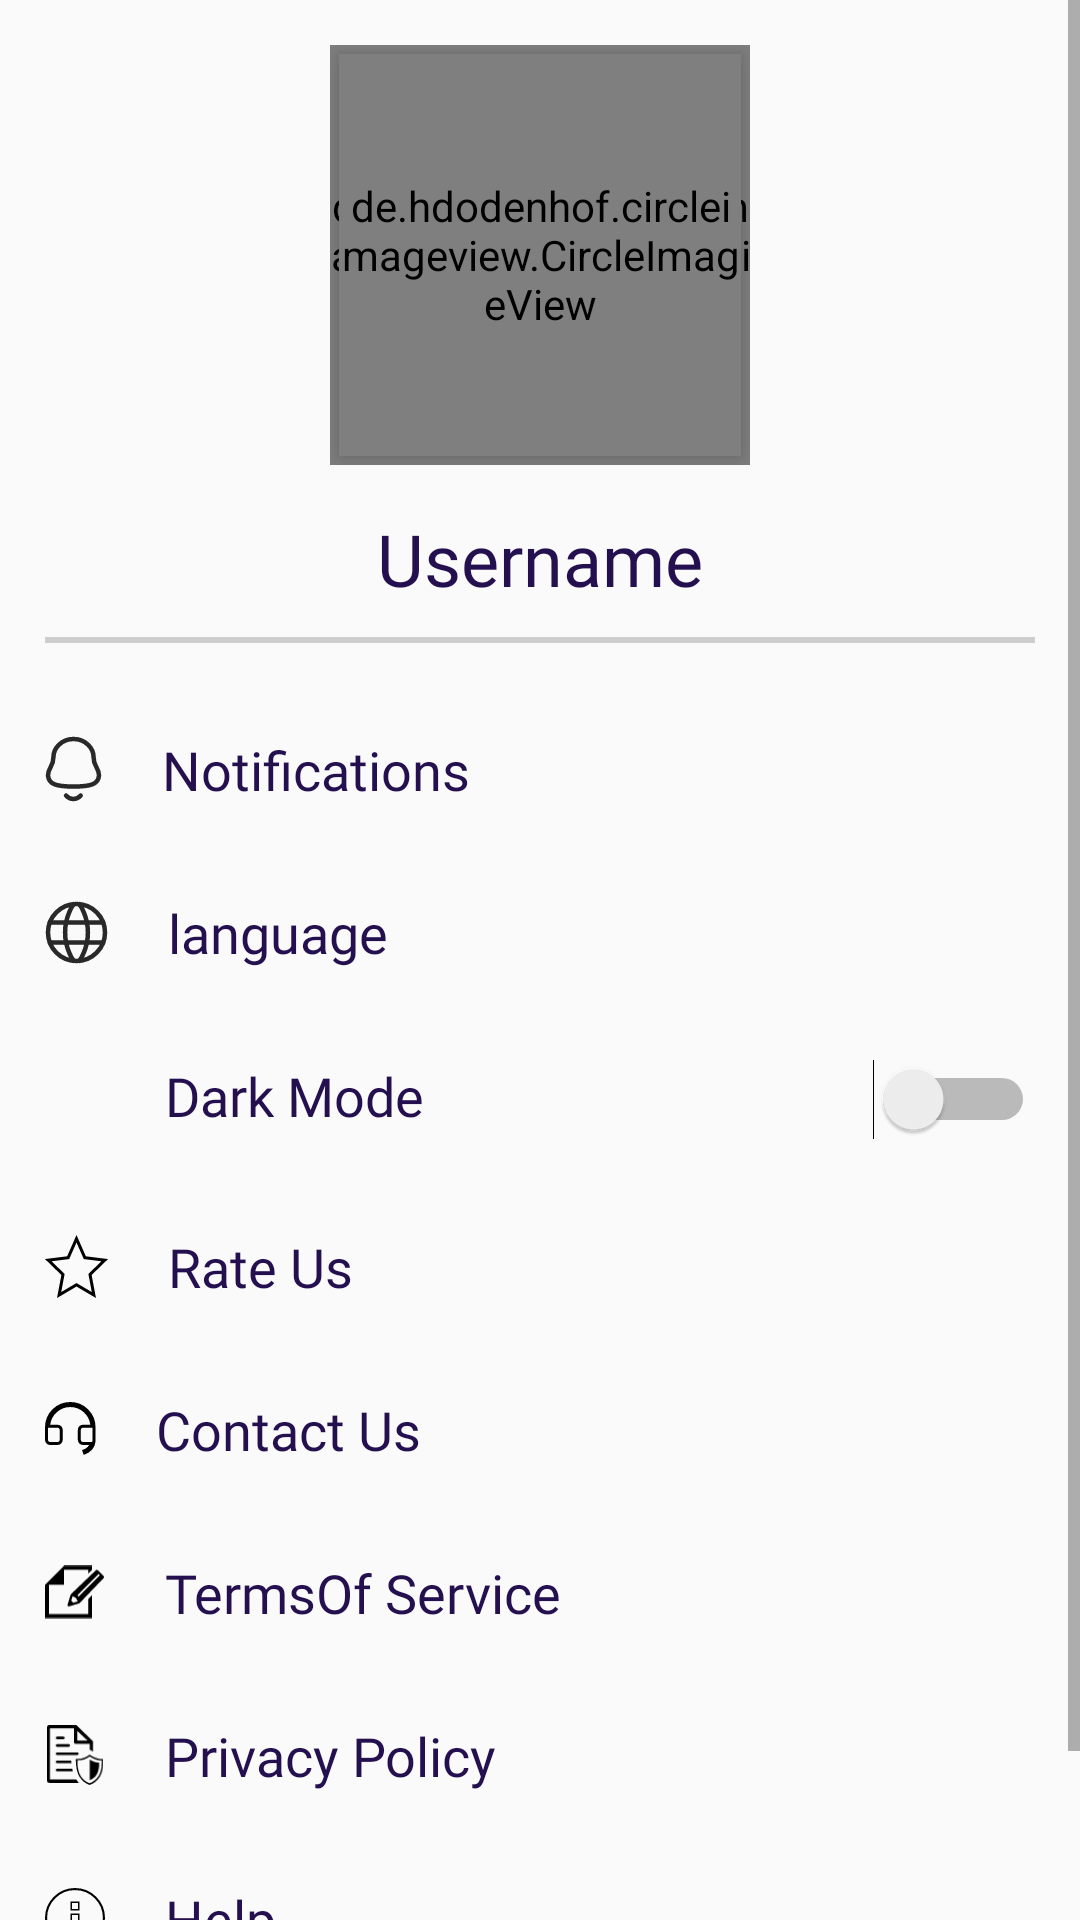

Icon bounding boxes for this 1080 × 1920 phone screenshot, format {"x1": x1, "y1": y1, "x2": x2, "y2": y2}:
star: {"x1": 45, "y1": 1235, "x2": 108, "y2": 1298}
